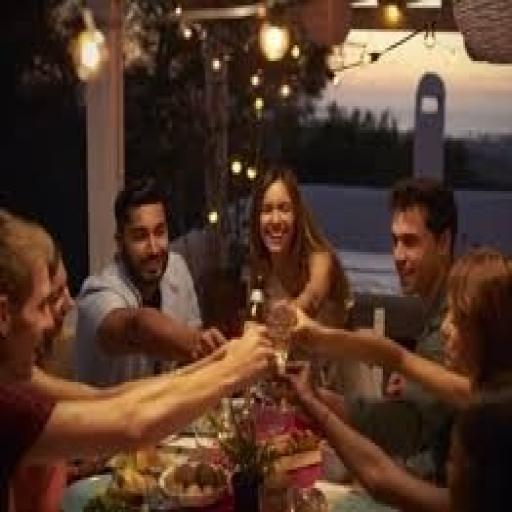eating: (0, 204, 277, 509), (281, 247, 510, 509), (72, 175, 229, 387)
